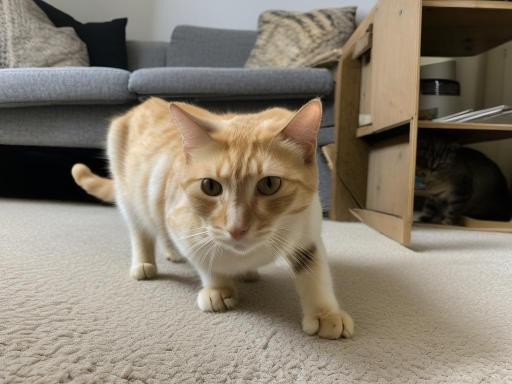cat_standing: (72, 98, 354, 338)
